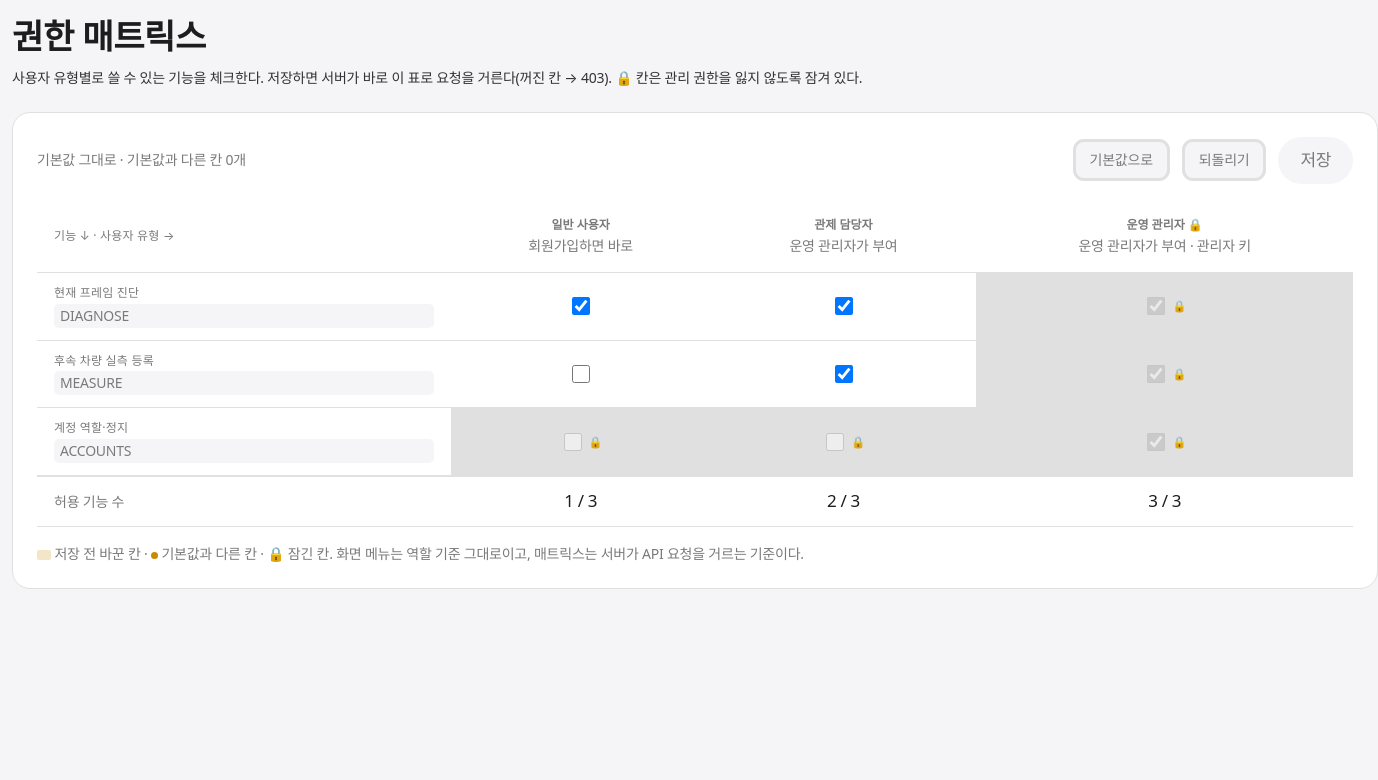
Test: 권한 매트릭스 › 칸을 바꾸면 변경 수가 보이고, 저장은 권한마다 허용 역할 전체를 PUT 한다
Click the checkbox named "일반 사용자 — 후속 차량 실측 등록".
click(581, 374)  # box [572, 365, 590, 383]
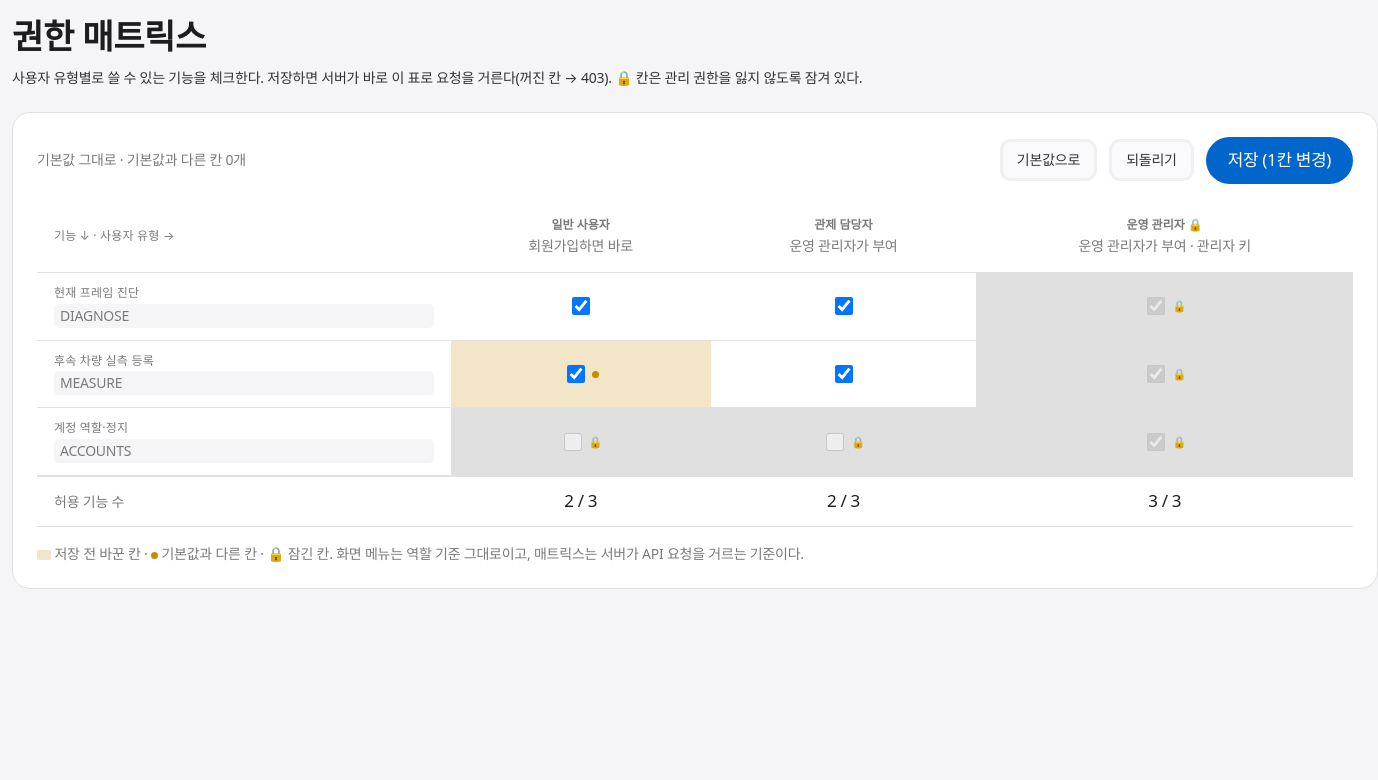
Click the button "저장 (1칸 변경)".
click(1279, 160)  # box [1206, 137, 1353, 184]
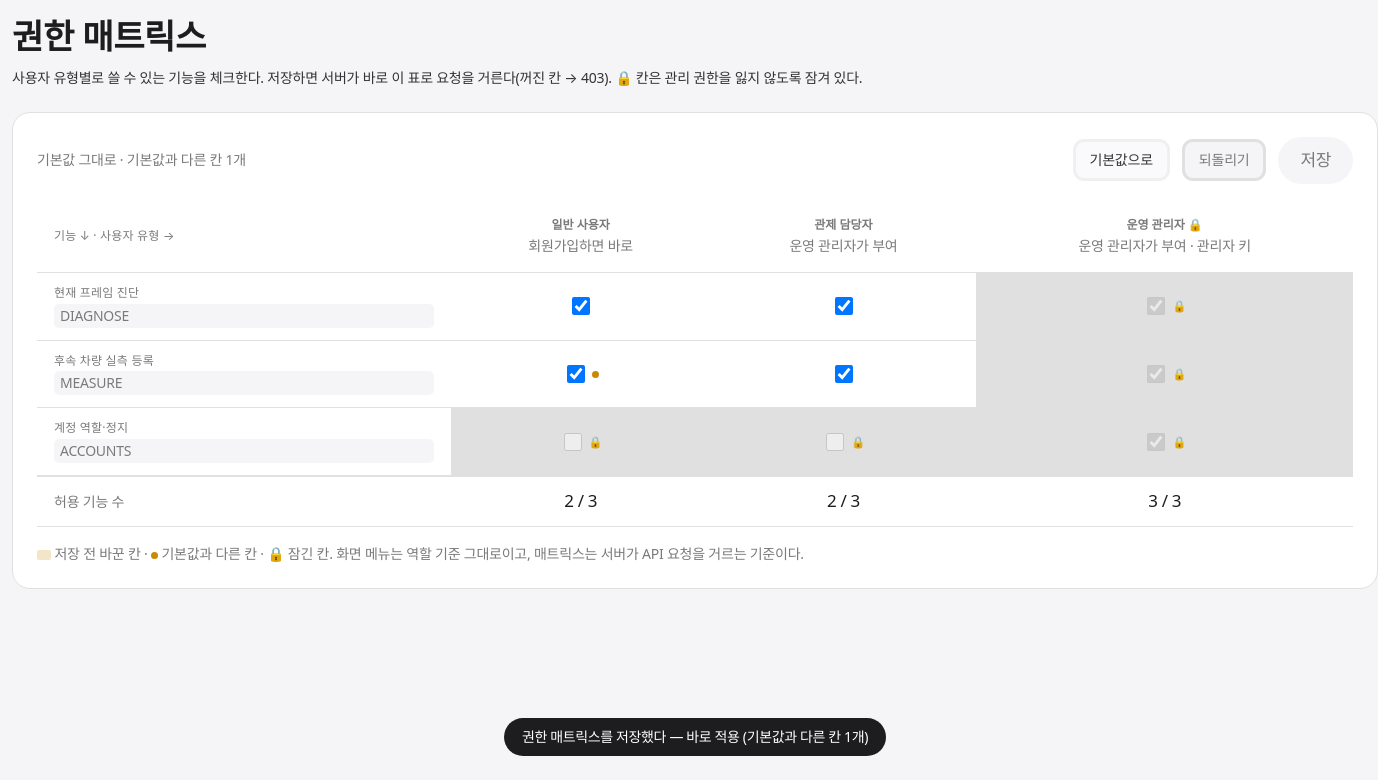
Expected: the text "권한 매트릭스를 저장했다 — 바로 적용 (기본값과 다른 칸 1개)" is shown, [504, 718, 886, 756]
